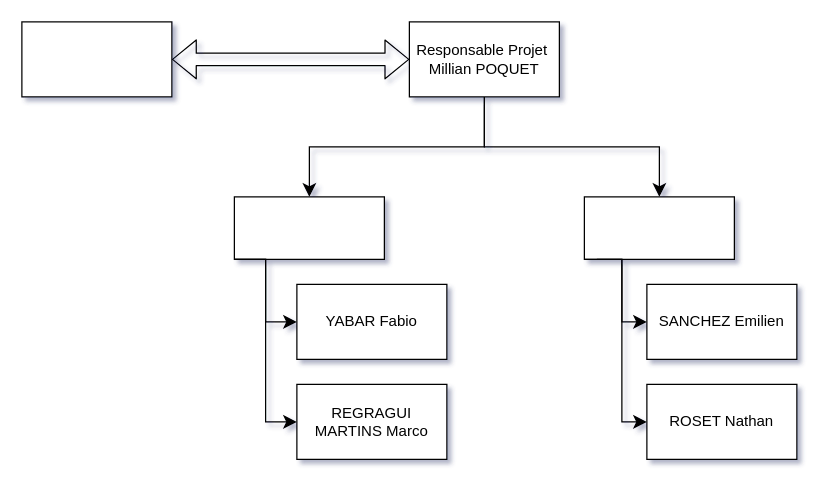
Image size: 826x489. Some labels were removed from this diagram. Here are the shapes that lost their labels. From the top down, the box of each, then its label:
(21, 21, 172, 97): Client Millian POQUET
(233, 196, 384, 259): Partie Prototypage
(583, 196, 734, 259): Partie Fonctionnelle
